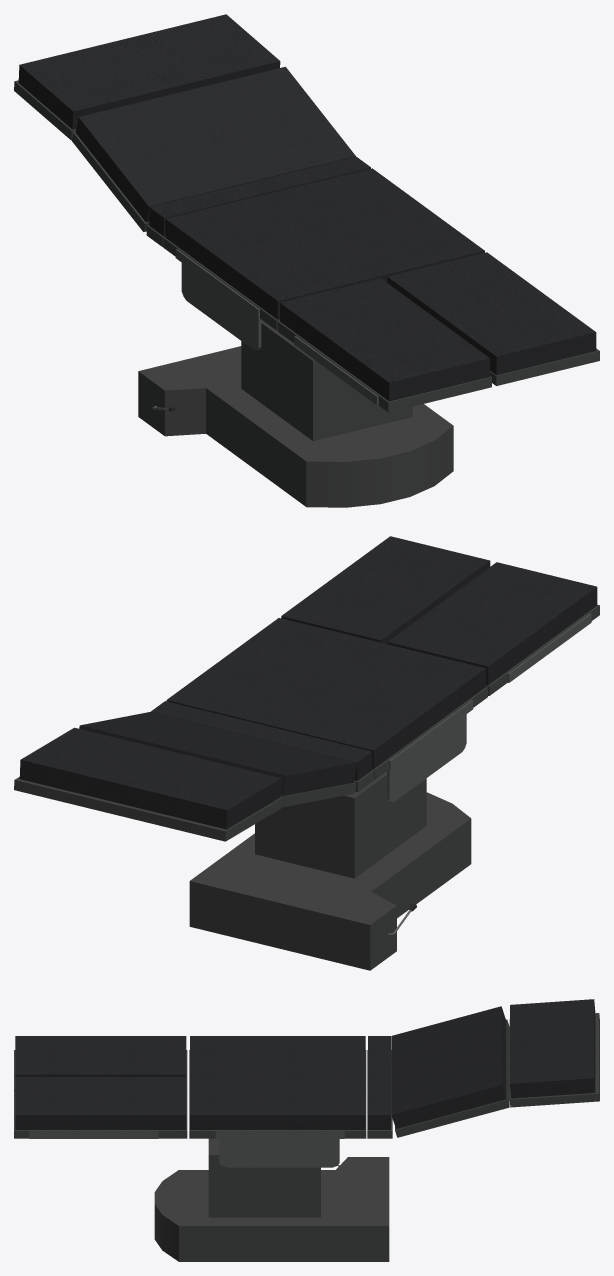
File: operating table.FBX
3 renders of one model, top to bottom at view 1: azimuth 30°, elevation 25°; view 2: azimuth 150°, elevation 25°; view 3: azimuth 270°, elevation 25°, orthographic. The views are drawn at different scales.
Parts seen in each view (by area): view 1: operating table; view 2: operating table; view 3: operating table.
Boxes of the visible parts, x1,y1,x2,y2 form: operating table: [14, 14, 599, 507]; operating table: [14, 536, 599, 970]; operating table: [14, 999, 599, 1261].
Bounding box in the file's own units: 80.3 × 84.47 × 226.
